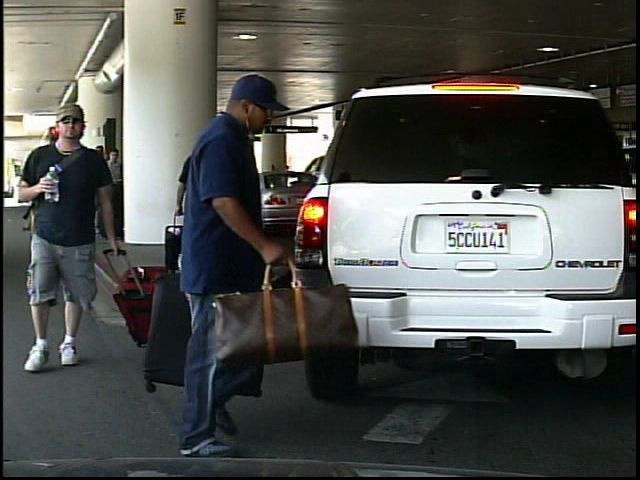person: (165, 73, 306, 465), (24, 101, 117, 374), (164, 130, 230, 274)
